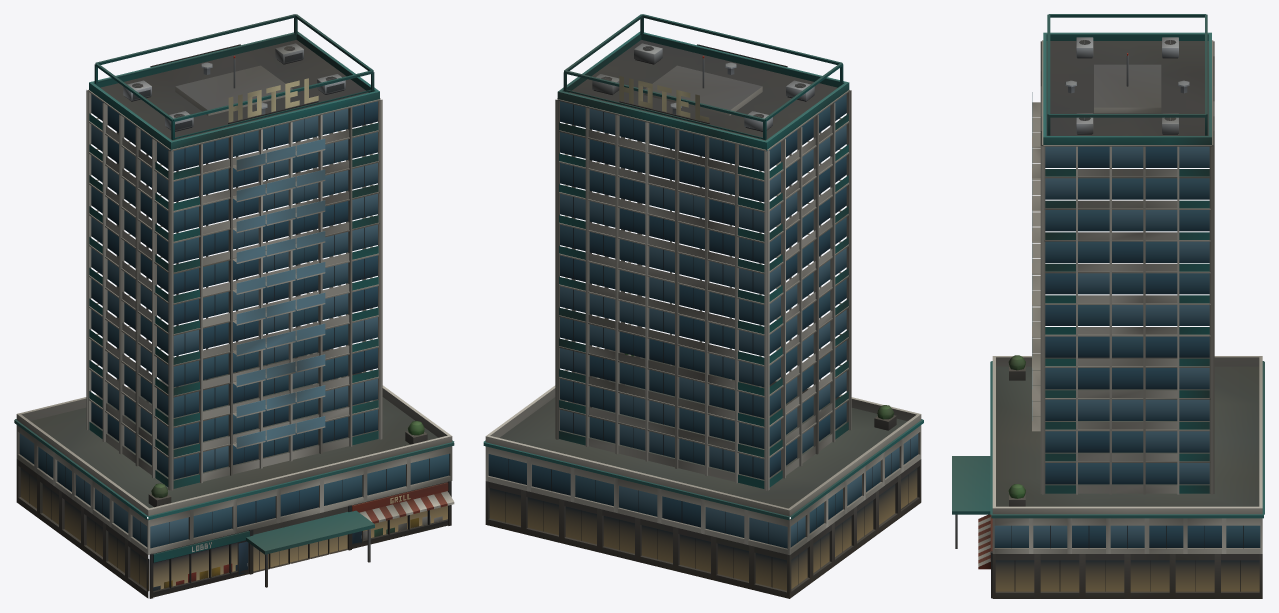
The model's file is building_f.glb.
The picture shows the model from 3 angles, left to right: view 1: azimuth 30°, elevation 25°; view 2: azimuth 150°, elevation 25°; view 3: azimuth 270°, elevation 25°; orthographic projection. The views are drawn at different scales.
Parts seen in each view (by area): view 1: Building; view 2: Building; view 3: Building.
Boxes of the visible parts, x1,y1,x2,y2 form: Building: (14,14,454,598); Building: (483,14,923,598); Building: (952,14,1264,598).
Bounding box in the file's own units: 32.4 × 46 × 27.8.
